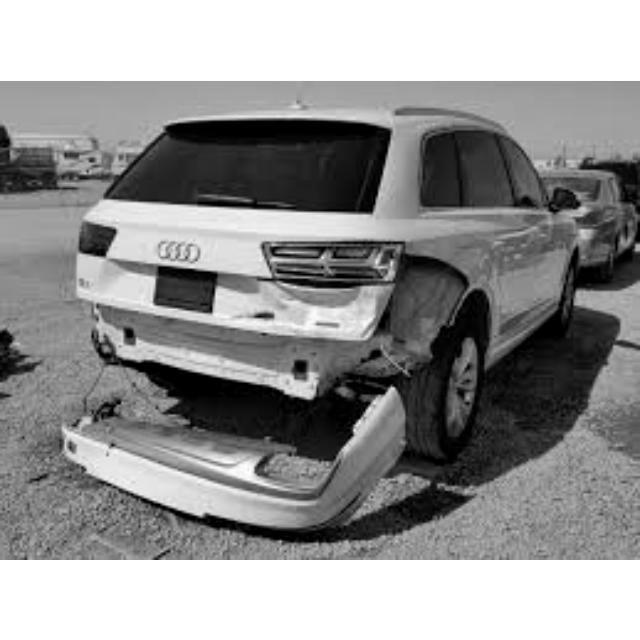Taillight-Damage: (268, 229, 402, 286)
quaterpanel-dent: (398, 251, 466, 345)
rear-bumper-dent: (224, 339, 400, 419), (86, 304, 224, 383)
